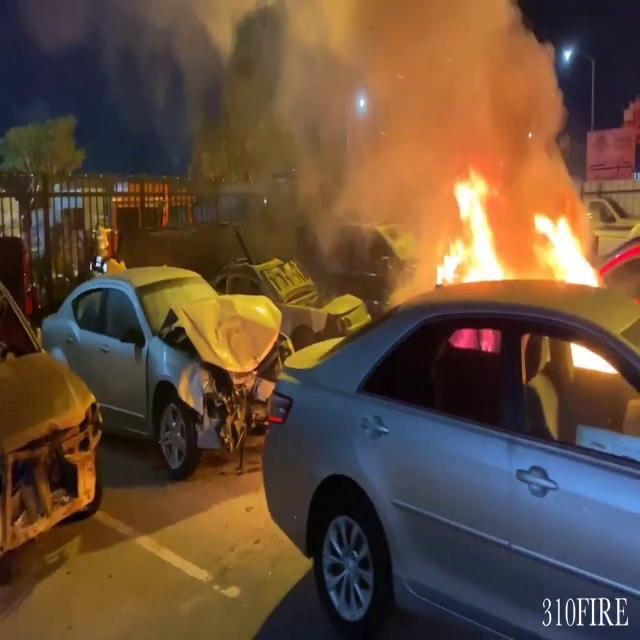Fire: (430, 164, 508, 290), (532, 198, 602, 290)
Smoke: (12, 0, 574, 231)
